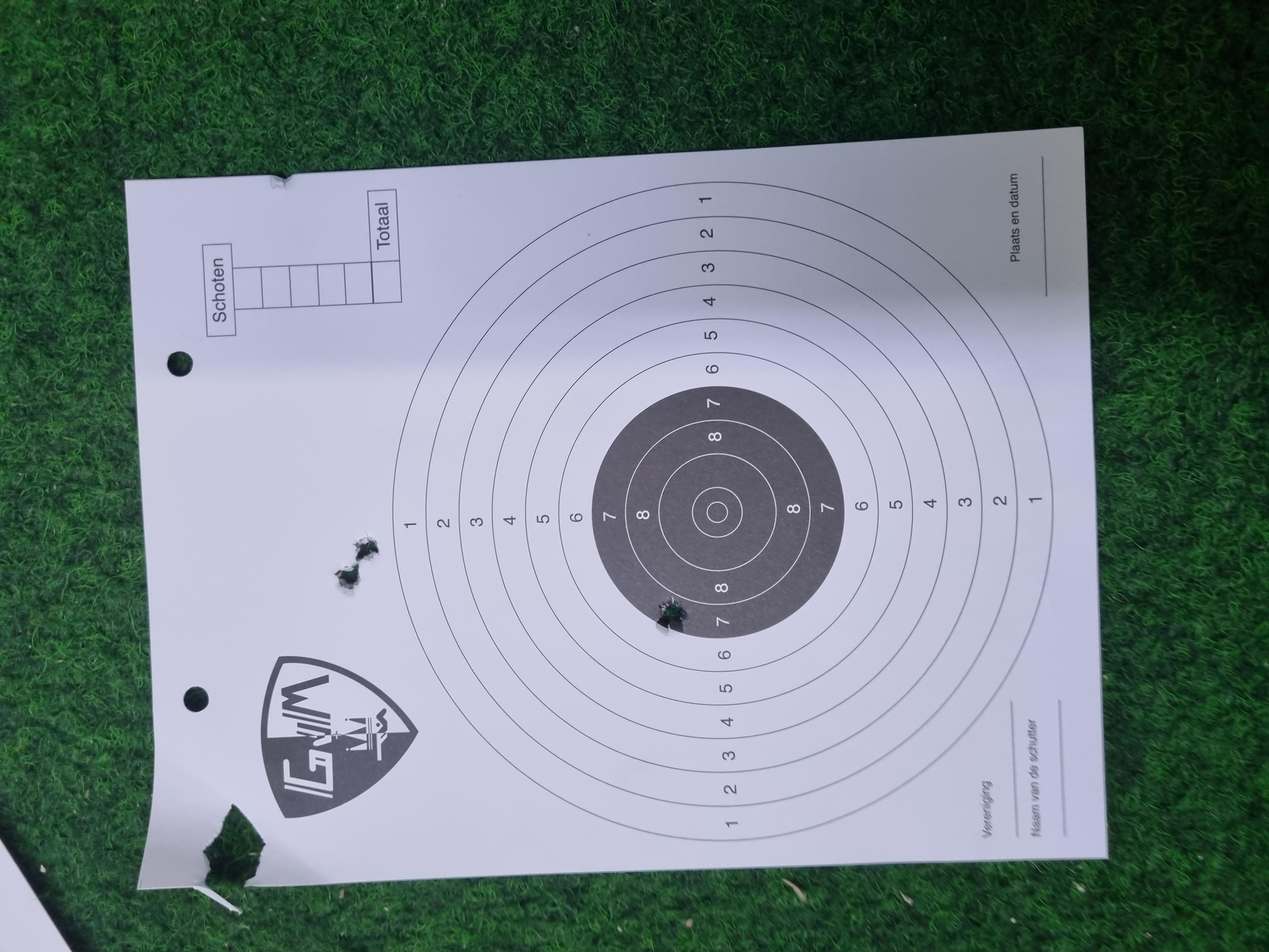hole: (423, 492, 475, 515), (519, 264, 556, 285), (483, 250, 518, 271)
